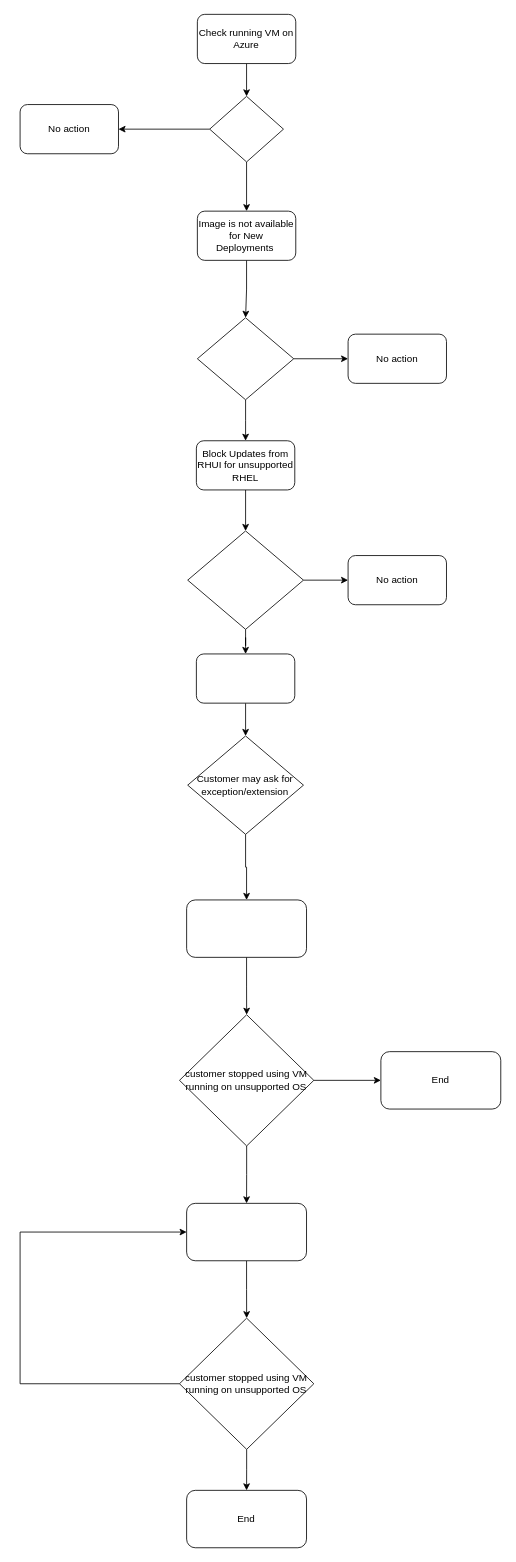
Image size: 516x1562. Some labels were removed from this diagram. Here are the shapes that lost their labels. From the top down, the centre of each, then its label:
At [246,129]: "Is Image deprecated".
At [245,358]: "customer on unsupported RHEL VM".
At [245,579]: "customer VM update/migrate to supported version".
At [245,678]: "Customer is unable to use new image, or need more time".
At [246,928]: "We can provide additional 3 months exception with no renewal".
At [246,1232]: "Engage CSS support to guide customer".
